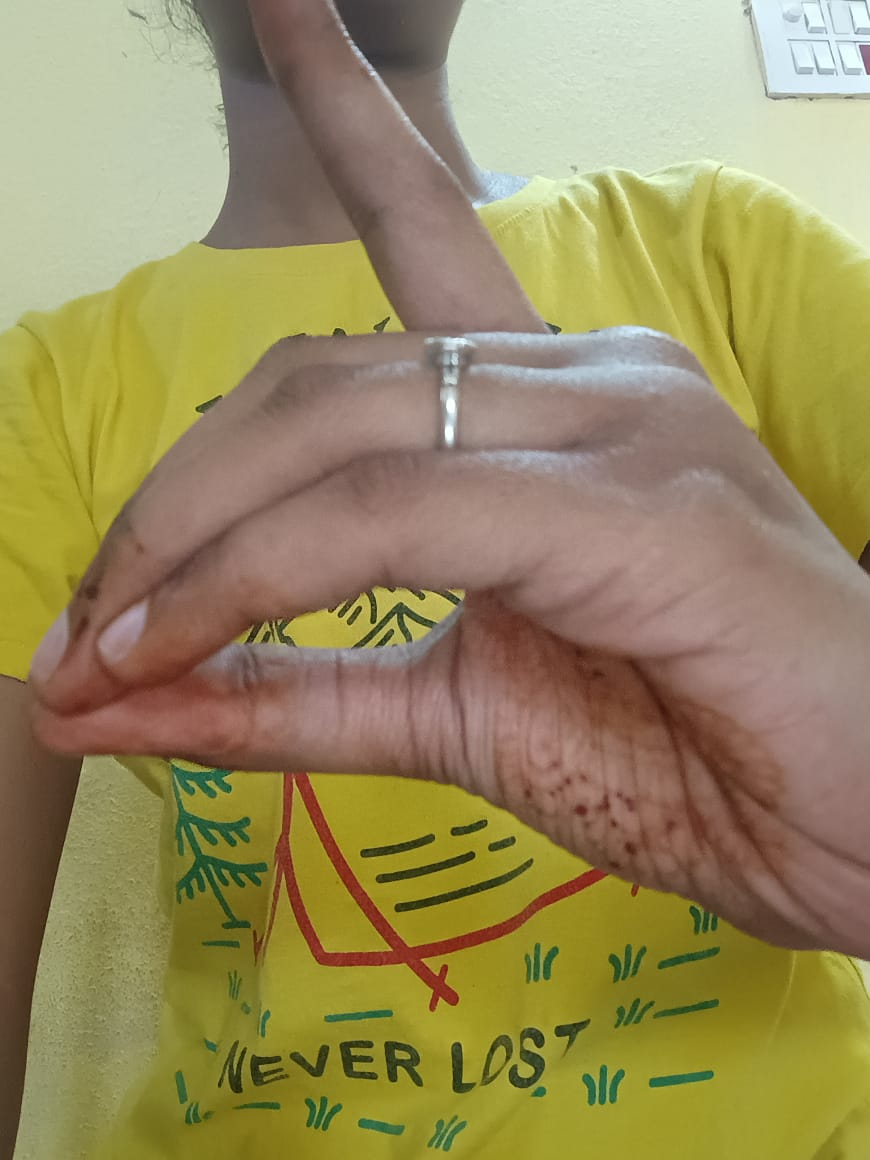D: (34, 8, 840, 960)
